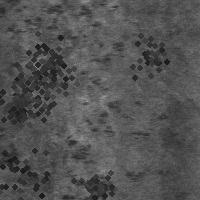rolled-in_scale: (0, 29, 87, 137), (55, 98, 131, 199), (0, 116, 73, 200), (12, 31, 80, 99), (114, 19, 180, 85), (0, 69, 52, 137), (72, 165, 114, 200)
